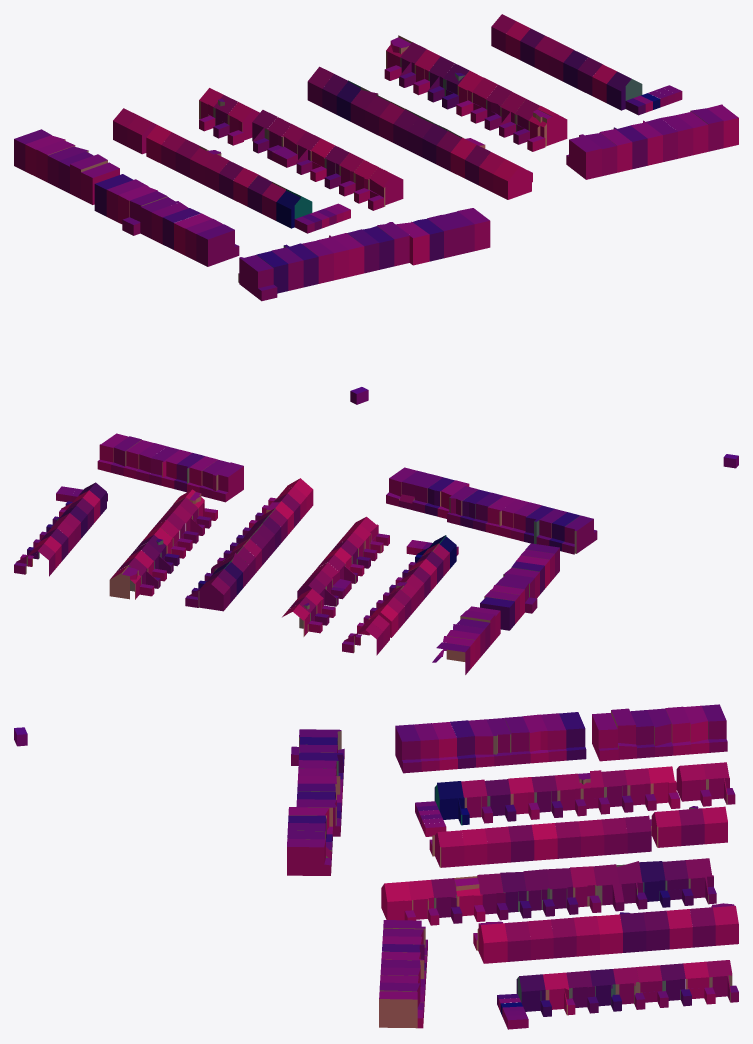
Rendered from buildings_9_5.glb.
3 views of the same model, one above another, from view 1: azimuth 30°, elevation 25°; view 2: azimuth 150°, elevation 25°; view 3: azimuth 270°, elevation 25° (orthographic). The views are drawn at different scales.
Parts seen in each view (by area): view 1: buildings_9_5; view 2: buildings_9_5; view 3: buildings_9_5.
Part boxes in pixels (bbox=[...]): buildings_9_5: bbox=[14, 14, 738, 404]; buildings_9_5: bbox=[14, 433, 738, 674]; buildings_9_5: bbox=[14, 704, 738, 1029].
Bounding box in the file's own units: 186 × 9.76 × 192.
